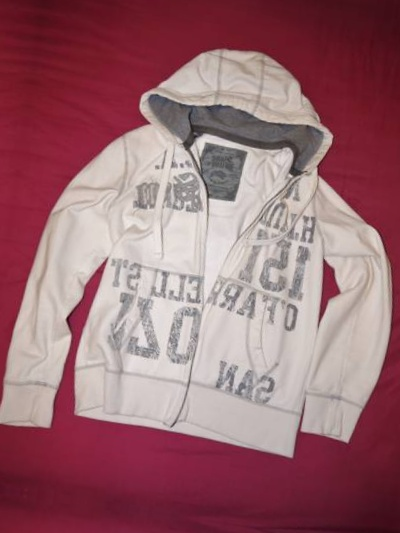Hoodie: (0, 23, 400, 512), (0, 0, 34, 450), (0, 520, 367, 533)
